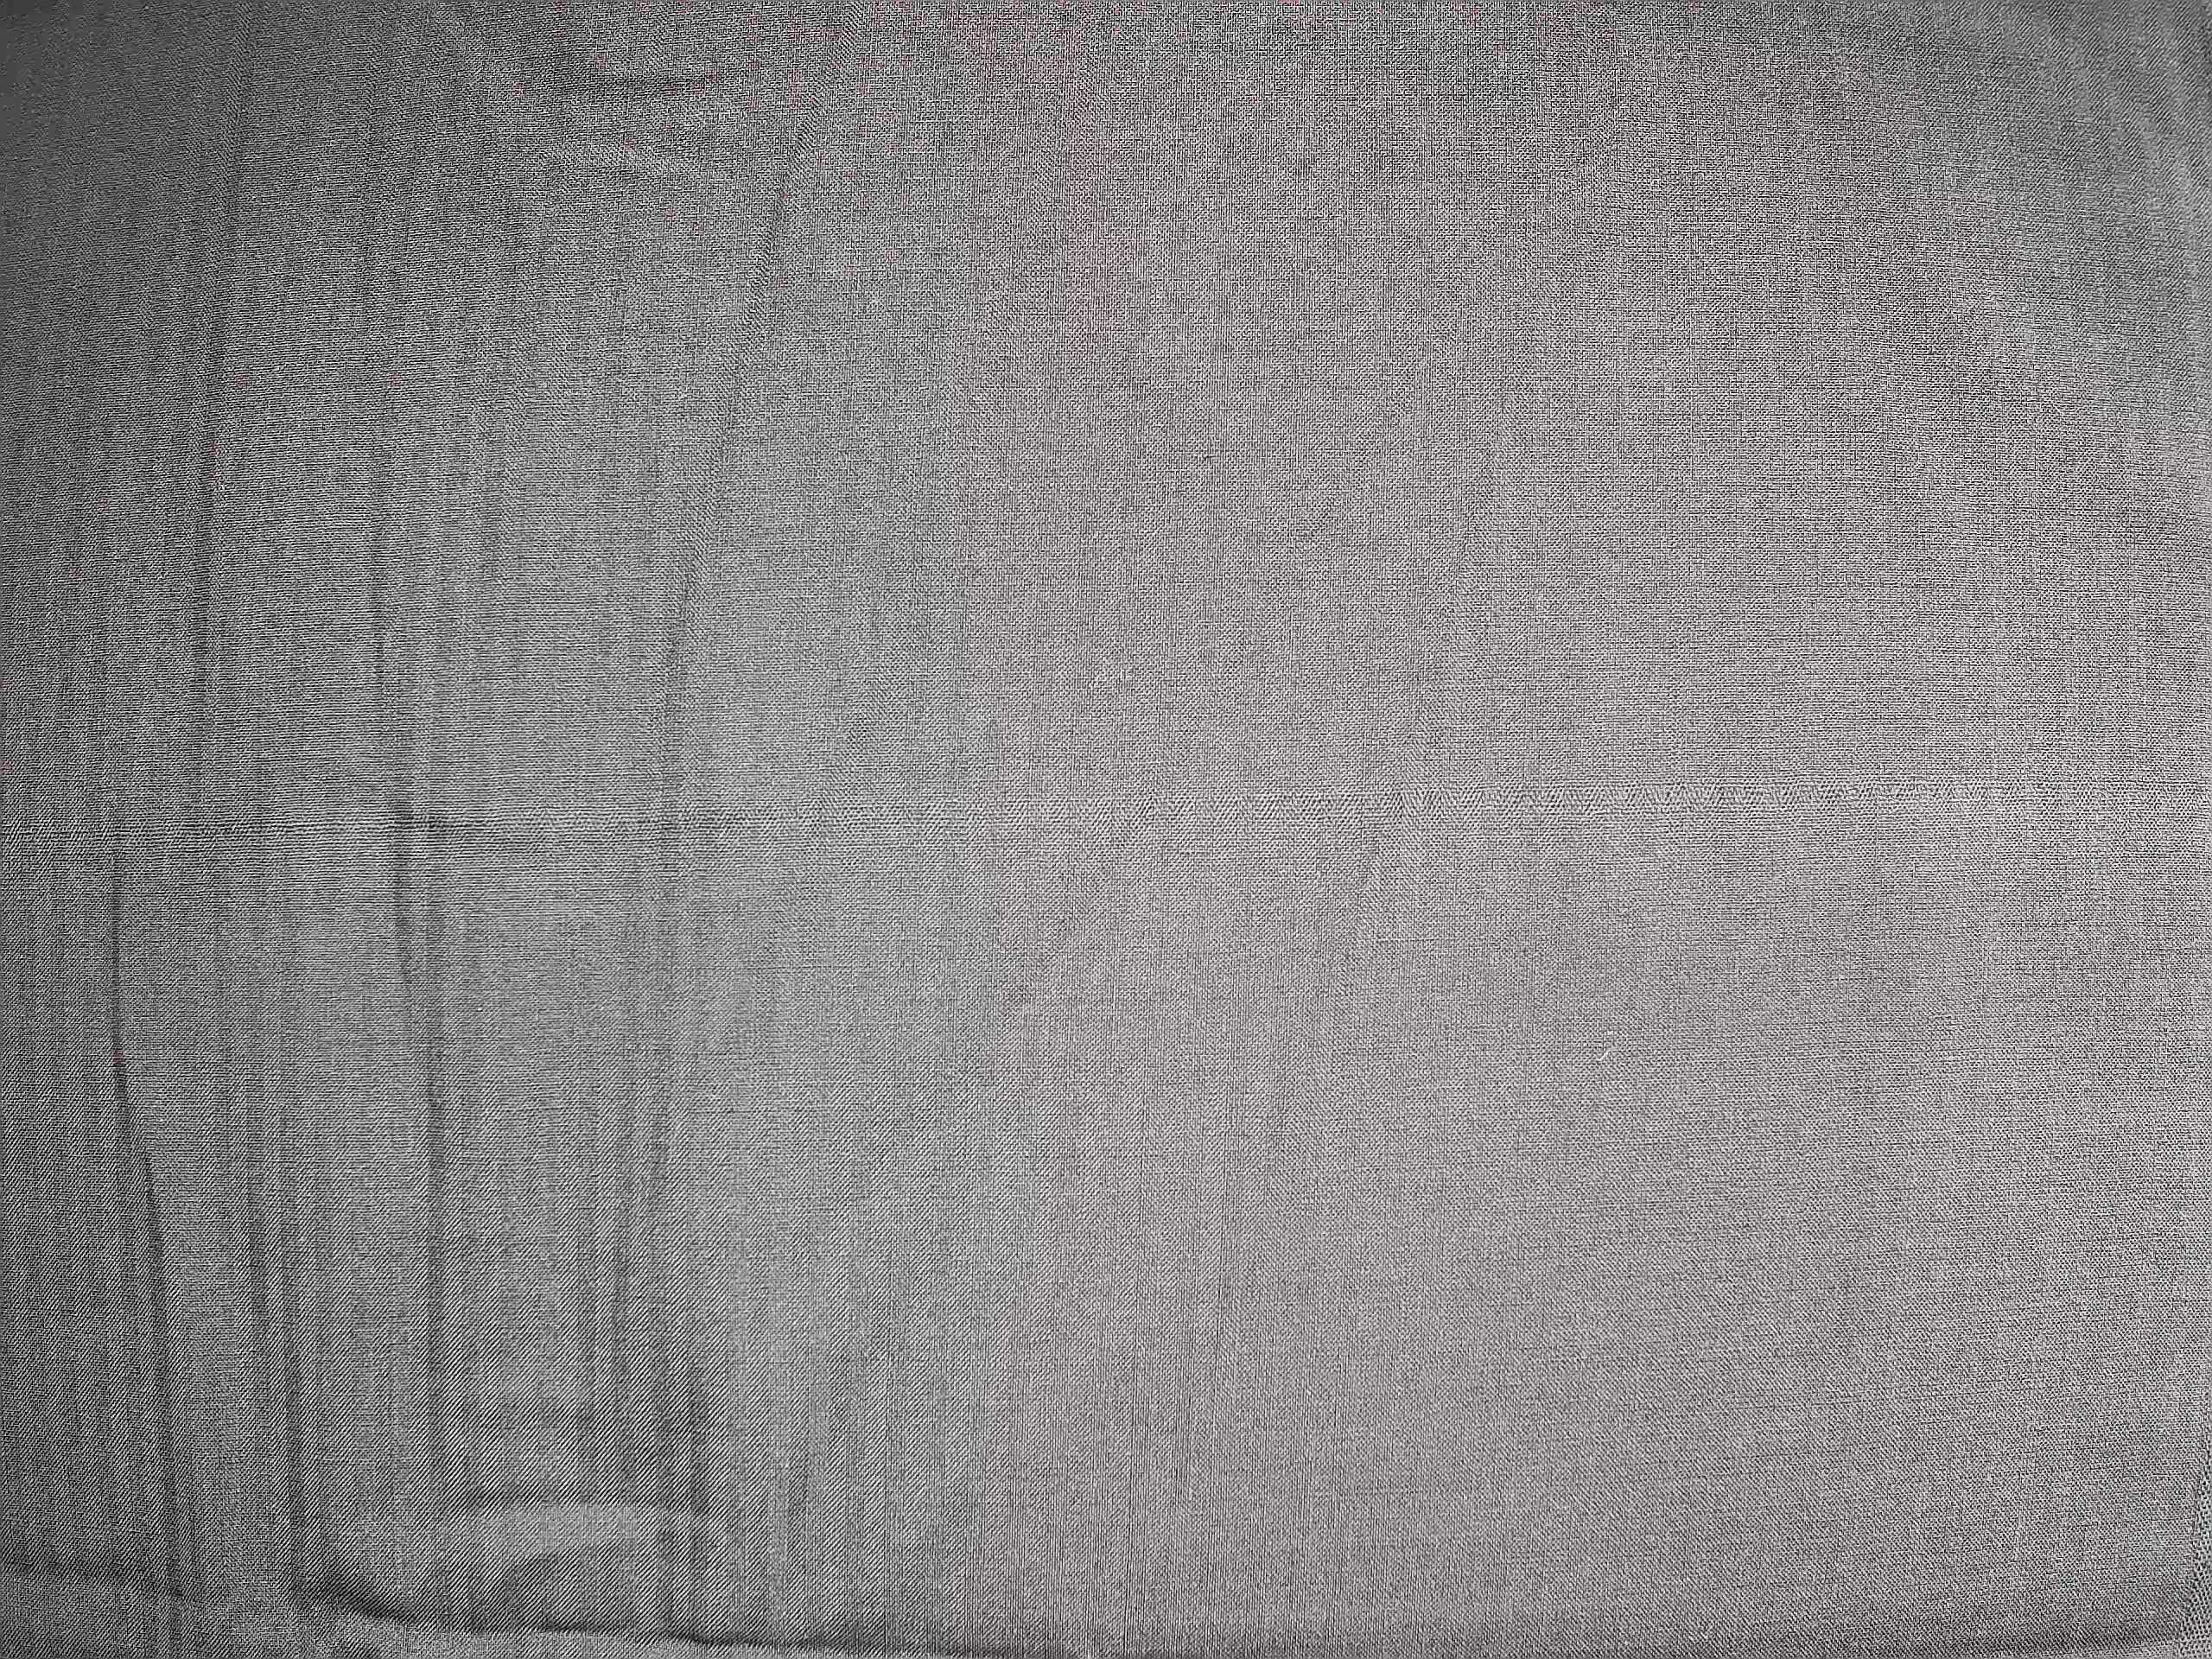lacking-warp: (2, 775, 2205, 852)
